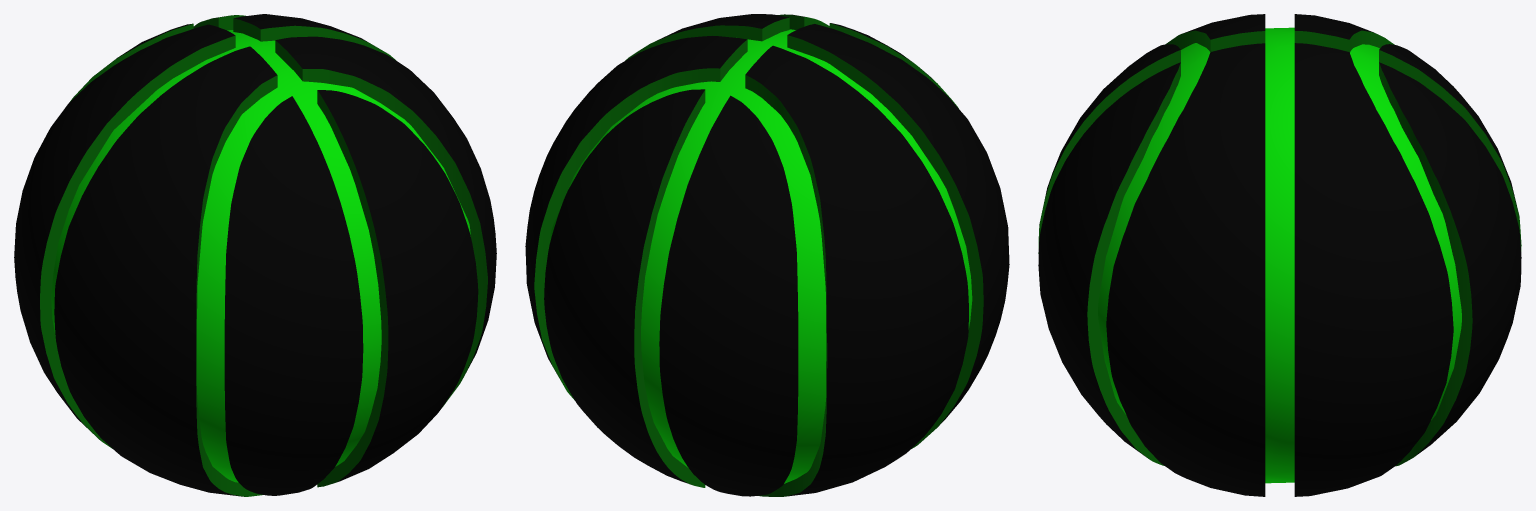
File: Basketball.fbx
The picture shows the model from 3 angles, left to right: view 1: azimuth 30°, elevation 25°; view 2: azimuth 150°, elevation 25°; view 3: azimuth 270°, elevation 25°; orthographic projection.
Parts seen in each view (by area): view 1: Basketball; view 2: Basketball; view 3: Basketball.
Boxes of the visible parts, <box> form: Basketball: <box>14,14,496,496</box>; Basketball: <box>525,14,1009,496</box>; Basketball: <box>1038,14,1521,496</box>.
Bounding box in the file's own units: 0.7956 × 0.7943 × 0.7957.
